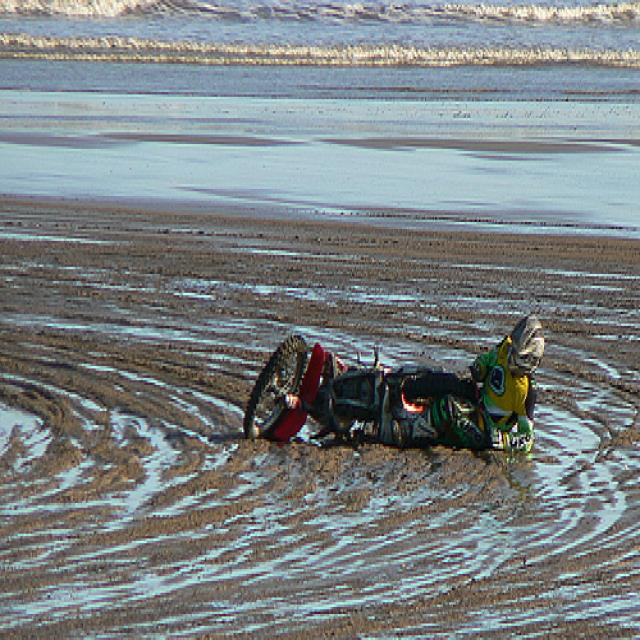motor: (242, 337, 397, 451), (330, 363, 448, 445)
